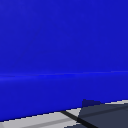blue_basket: (1, 1, 128, 122)
